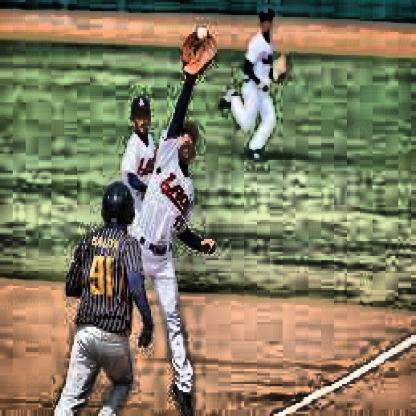baseball: (195, 28, 213, 42)
